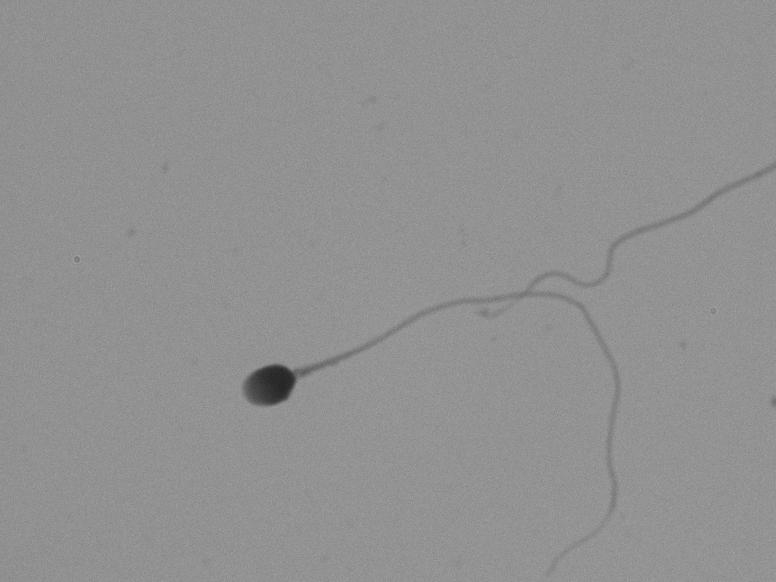Normal: (193, 272, 652, 560)
